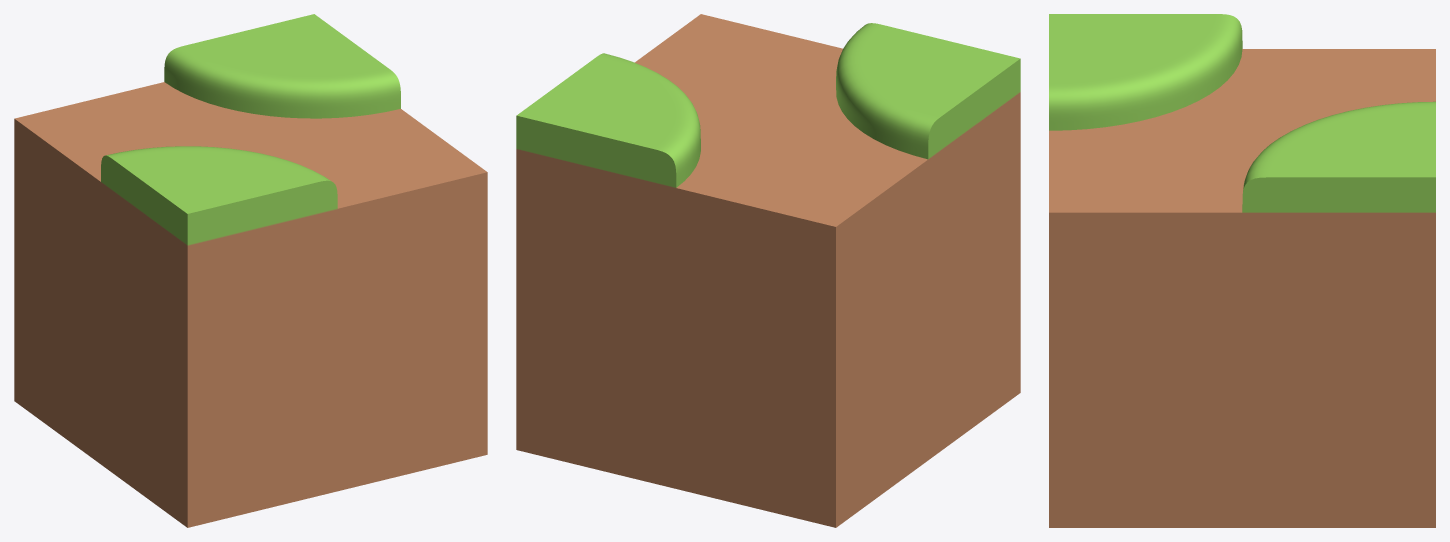
The model's file is Grass-Dirt-4.fbx.
3 views of the same model, side by side, from view 1: azimuth 30°, elevation 25°; view 2: azimuth 150°, elevation 25°; view 3: azimuth 270°, elevation 25° (orthographic). The views are drawn at different scales.
Visible parts, largest first — view 1: Grass-Dirt-4; view 2: Grass-Dirt-4; view 3: Grass-Dirt-4.
Boxes of the visible parts, x1,y1,x2,y2 form: Grass-Dirt-4: (14, 14, 487, 527); Grass-Dirt-4: (516, 14, 1020, 527); Grass-Dirt-4: (1049, 14, 1435, 527).
Bounding box in the file's own units: 100 × 100 × 100.
